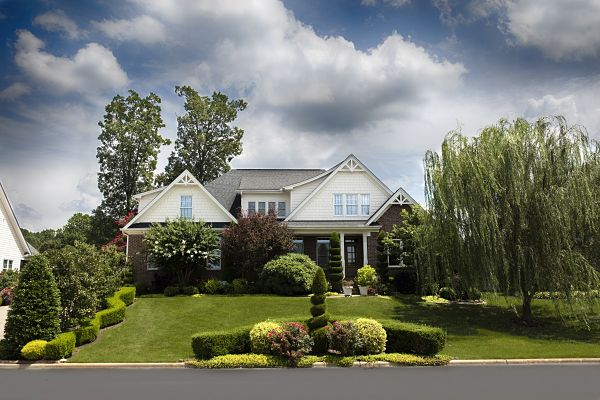bush: (199, 319, 440, 357), (257, 254, 321, 292)
tree: (410, 115, 593, 329), (95, 87, 162, 228), (160, 89, 252, 188), (134, 221, 218, 297), (4, 254, 67, 355), (218, 212, 299, 286), (50, 244, 97, 339)
